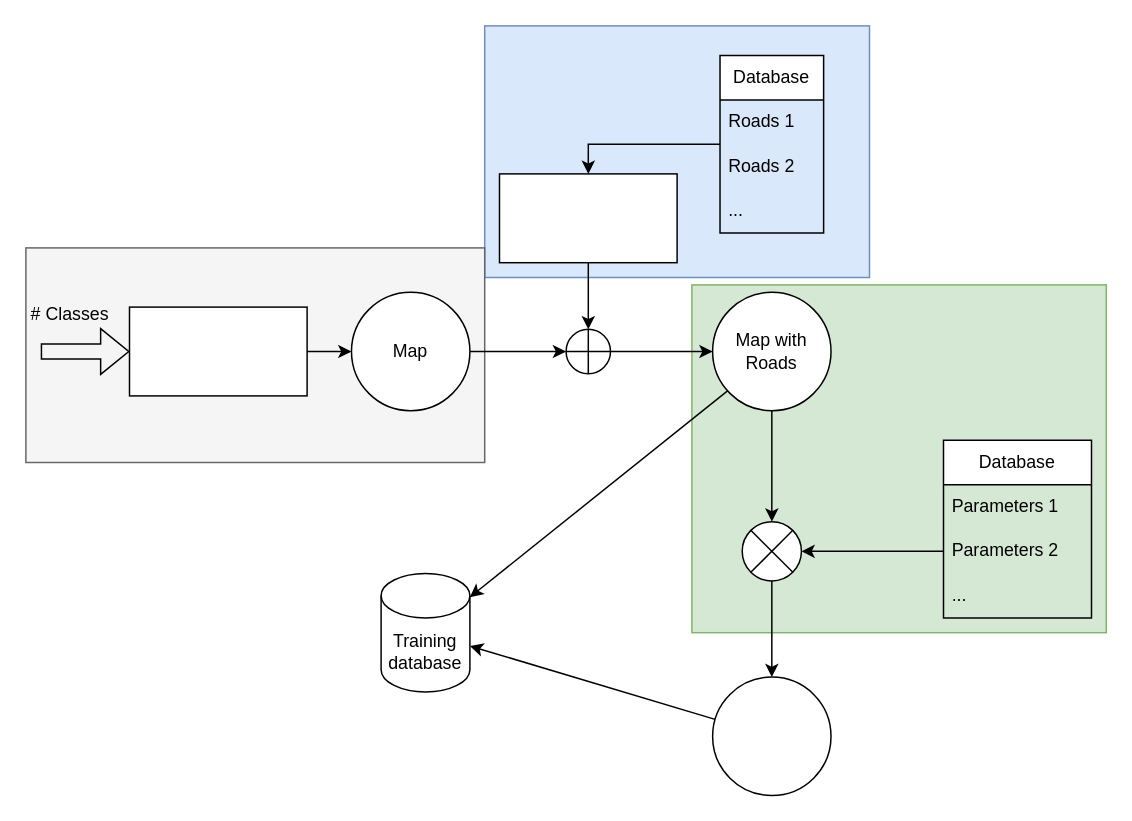
The diagram is 1132 pixels wide and 821 high, and some of its shapes have lost their labels. Here are the shapes that lost their labels. From the top down, the centre of each, then its label:
At point 587,217: "Road Map".
At point 217,351: "MRF Upscale Cut".
At point 771,736: "Sensed Image".
